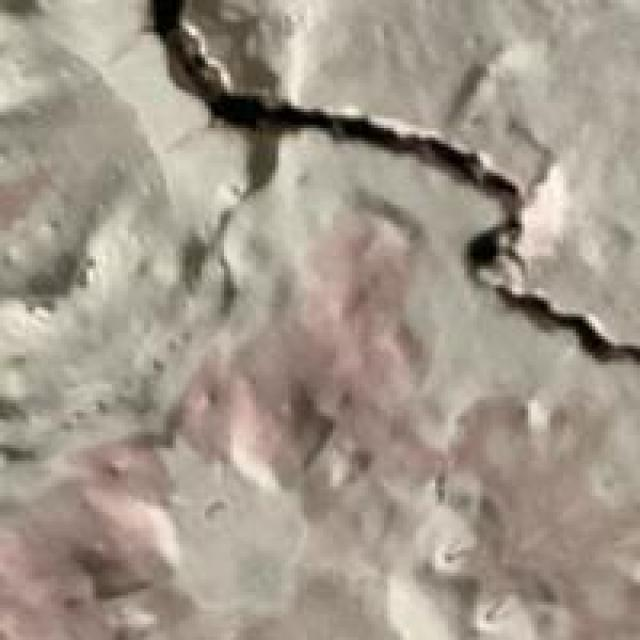crack: (121, 6, 636, 422)
